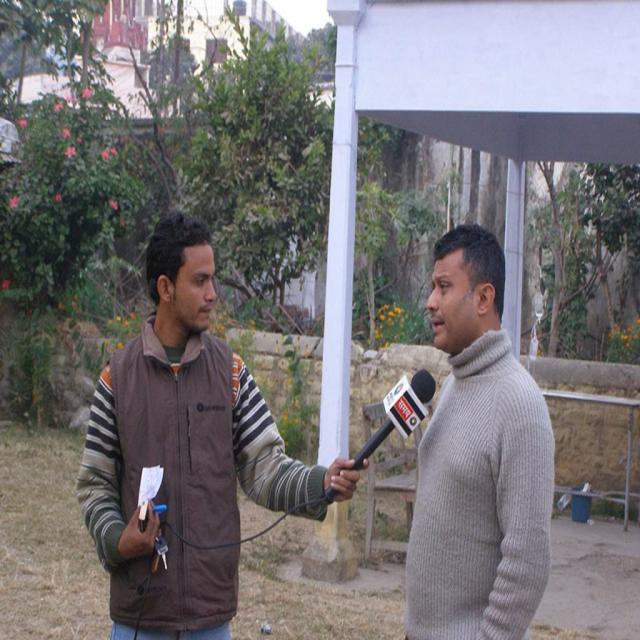Face: (423, 257, 480, 363), (175, 236, 220, 338)
